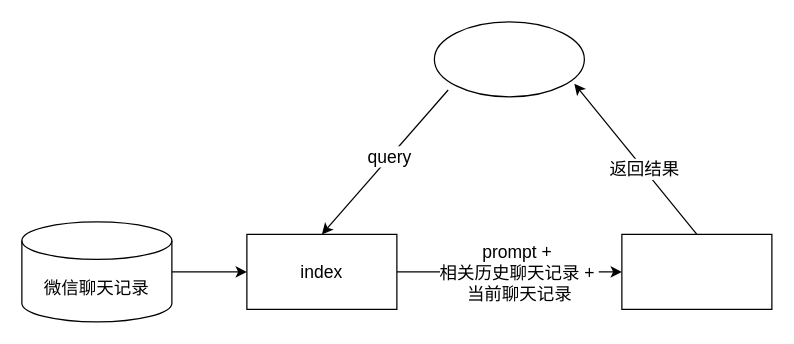
This 794x344 diagram has some shape labels left out. Here are the shapes that lost their labels. From the top down, the centre of each, then its label:
At (x=508, y=59): "对话".
At (x=696, y=271): "LLM".
